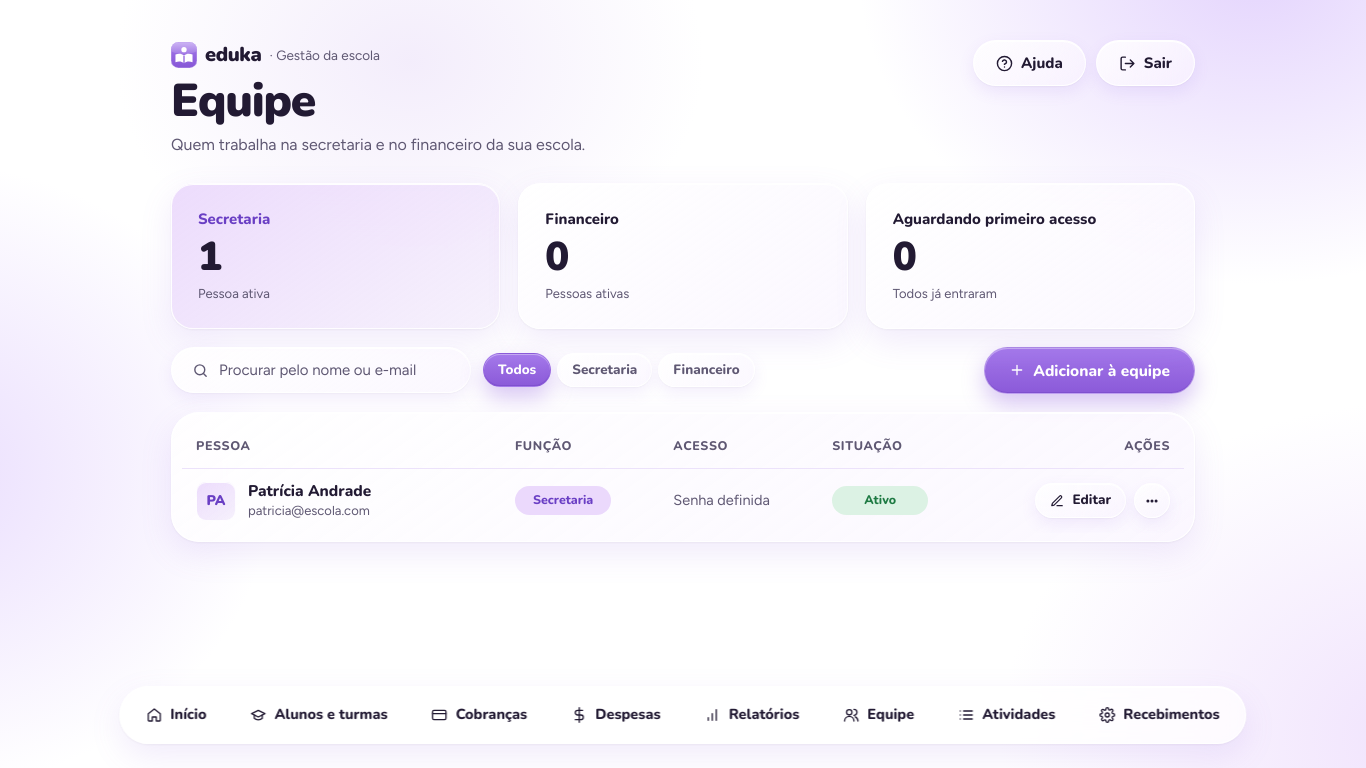
Equipe do master › cadastra alguém do financeiro e manda a função escolhida
Expected: the text "Patrícia Andrade" is shown, x1=248 y1=481 x2=371 y2=501
Click the button "Adicionar à equipe" at point(1090, 370), box x1=984 y1=347 x2=1195 y2=394
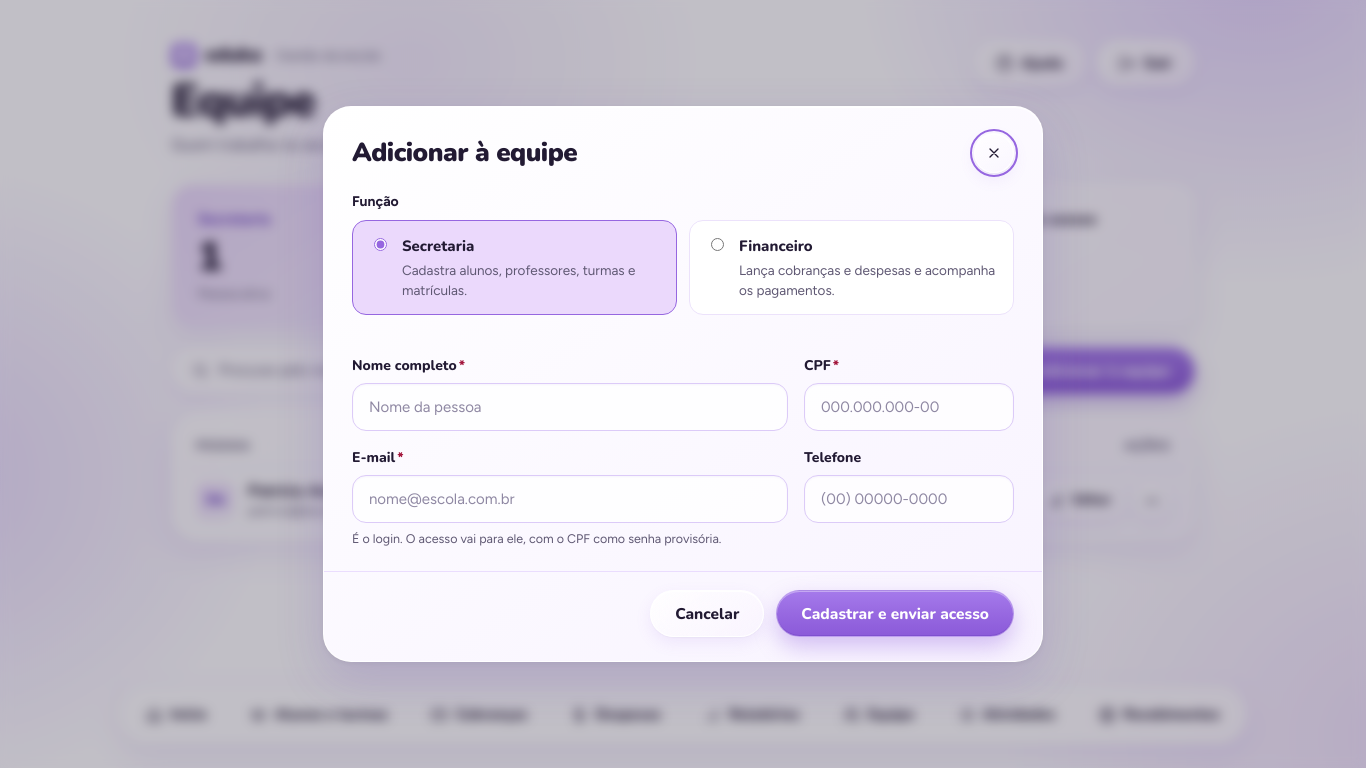
Click the radio button labelled "Financeiro" at point(718, 244), box x1=711 y1=238 x2=724 y2=251
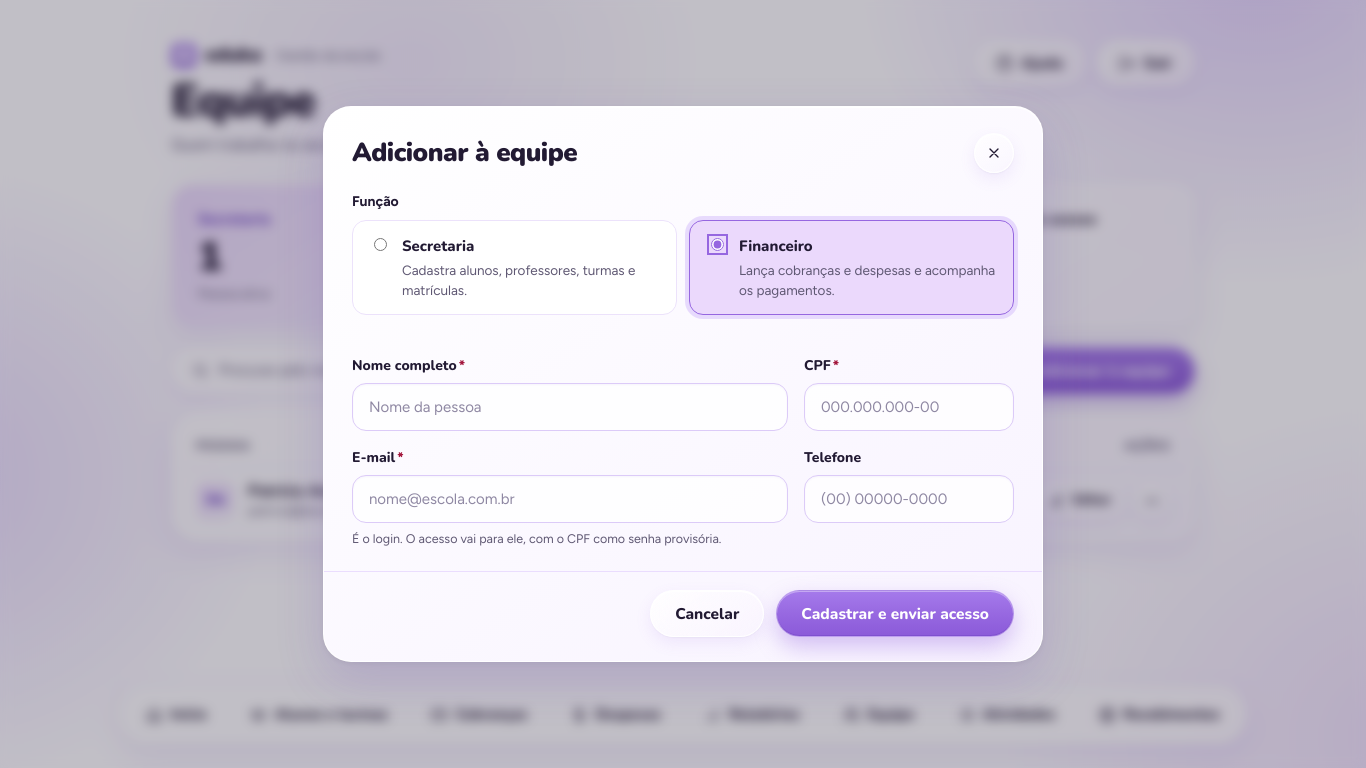
Type "Rita Souza" into the field labelled "Nome completo*" at point(570, 407), box x1=352 y1=383 x2=788 y2=431
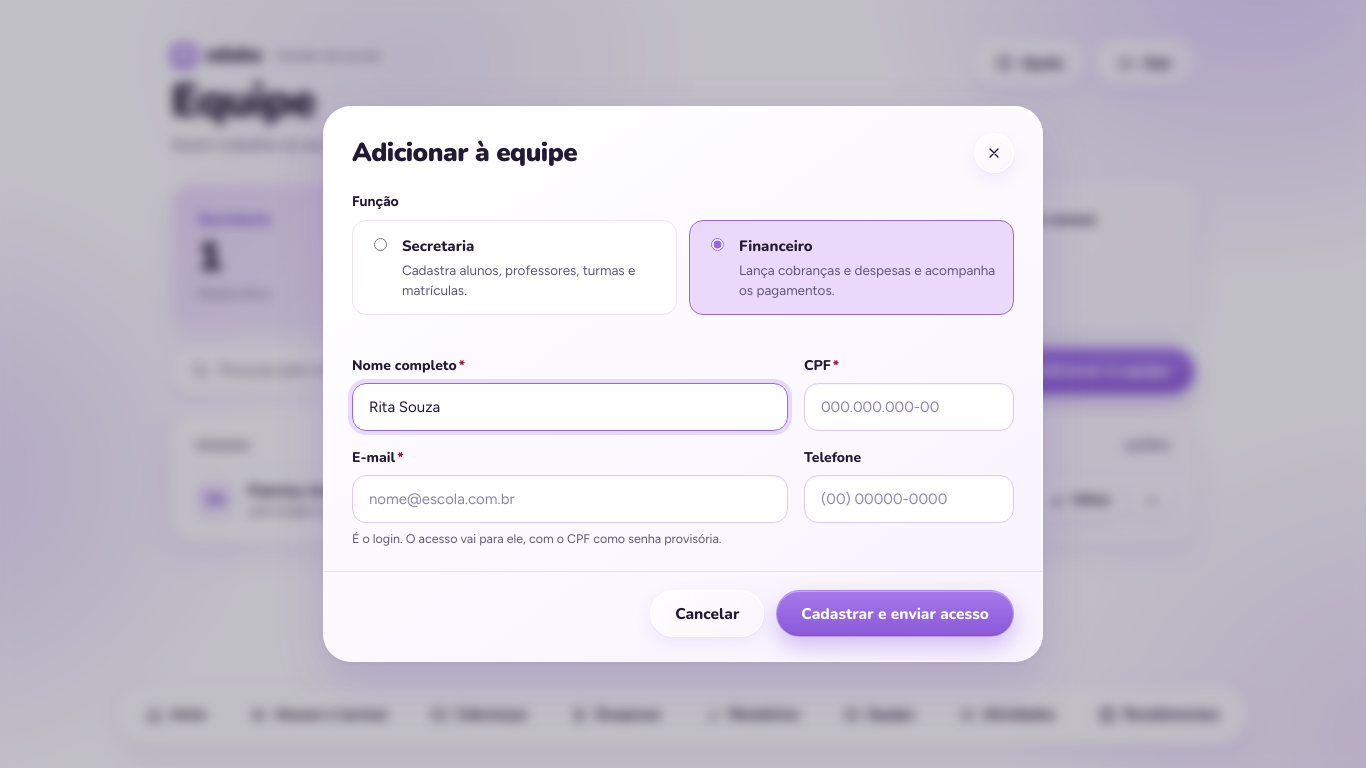
Type "52998224725" into the field labelled "CPF*" at point(909, 407), box x1=804 y1=383 x2=1014 y2=431
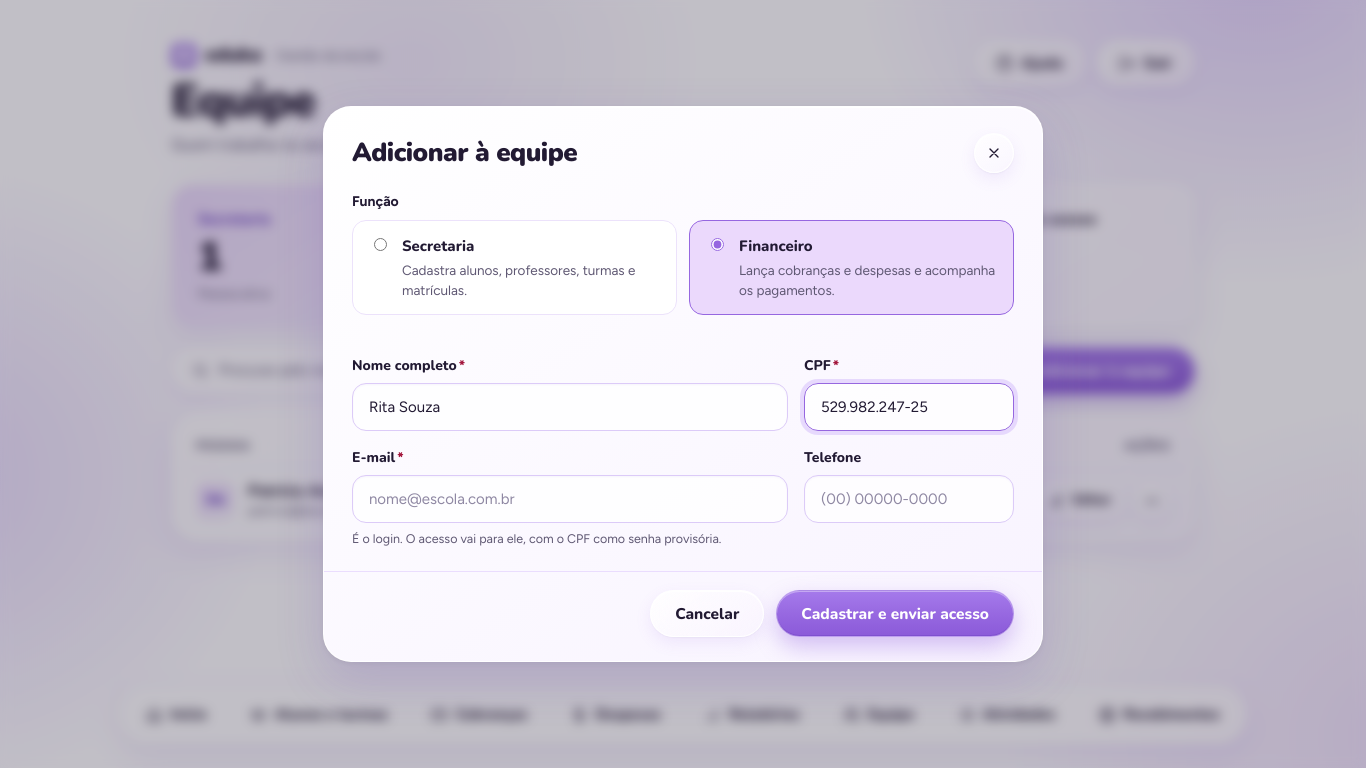
Type "rita@escola.com" into the field labelled "E-mail*" at point(570, 499), box x1=352 y1=475 x2=788 y2=523
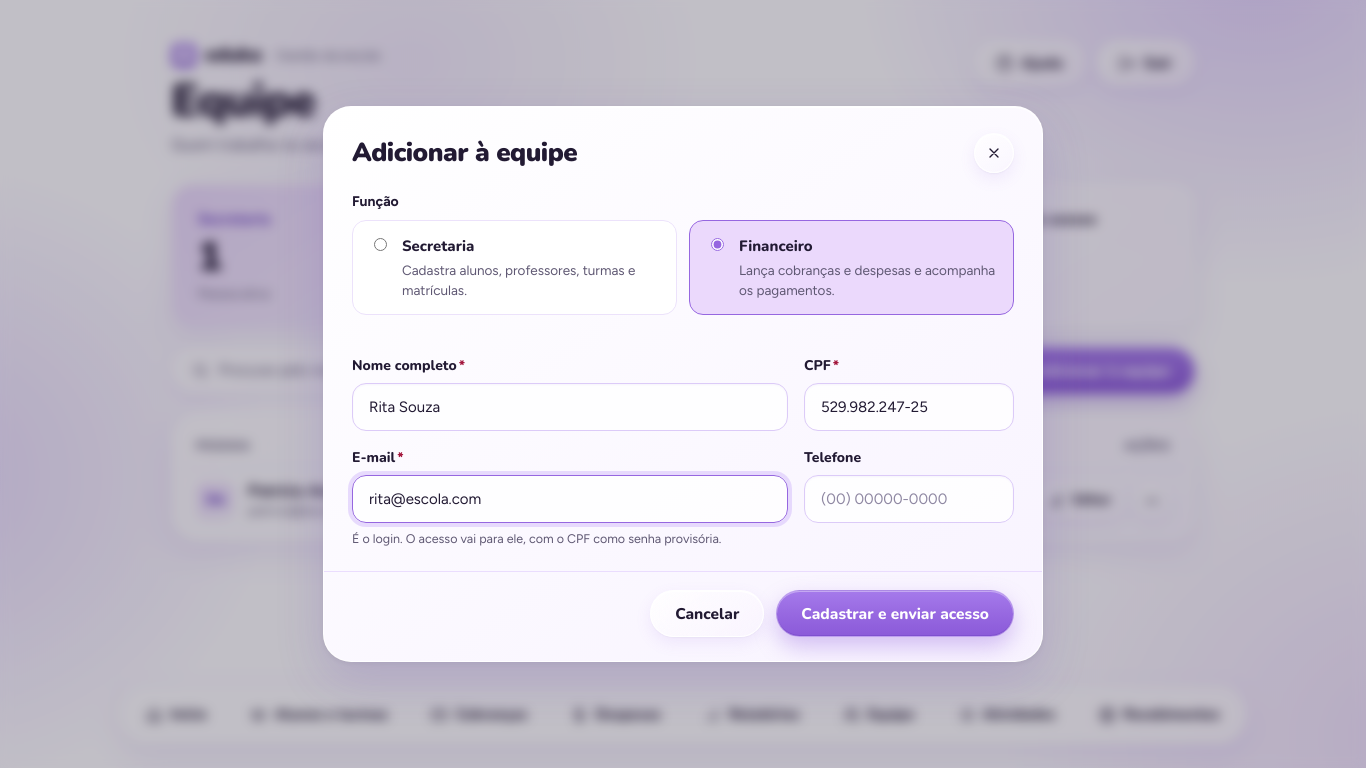
Click the button "Cadastrar e enviar acesso" at point(895, 613), box x1=776 y1=590 x2=1014 y2=637
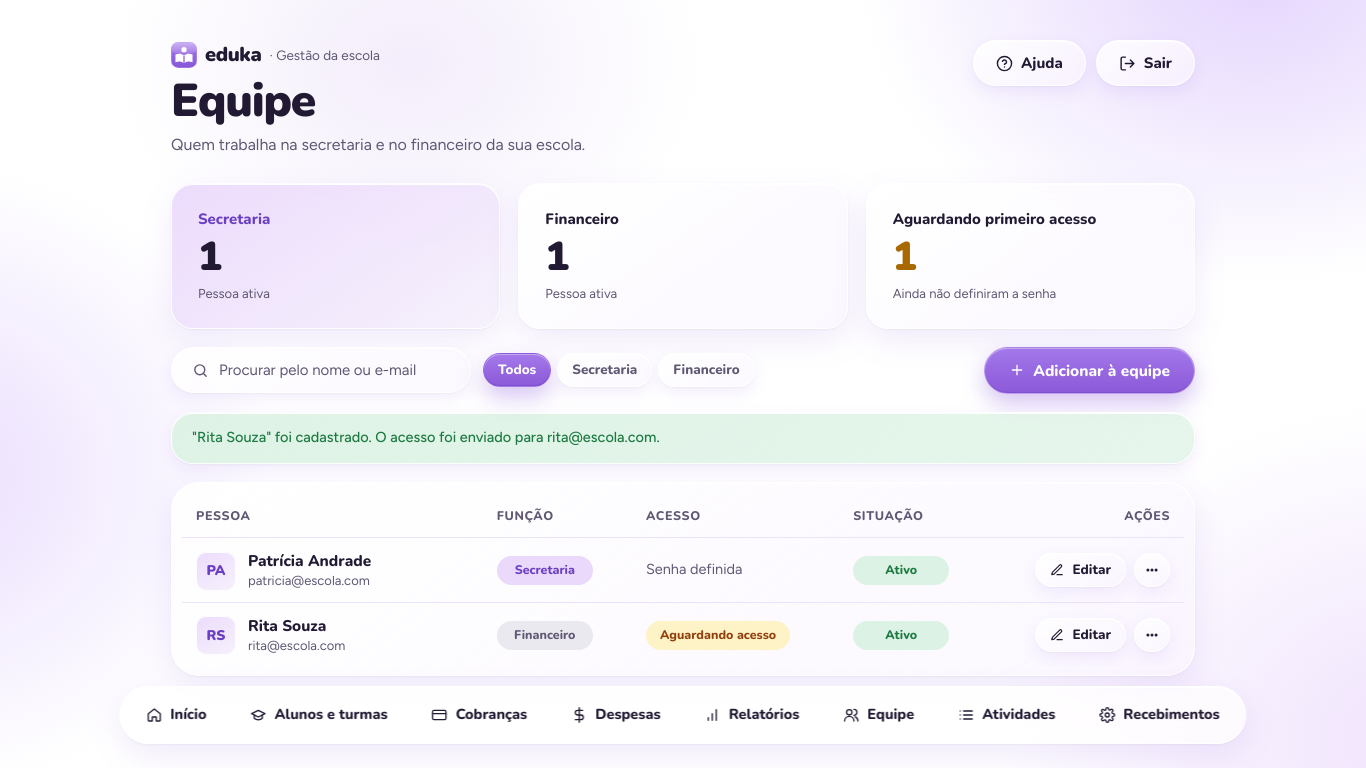
Expected: the message shows "O acesso foi enviado para rita@escola.com", x1=192 y1=428 x2=660 y2=446
Expected: the text "Rita Souza" is shown, x1=248 y1=614 x2=326 y2=636
